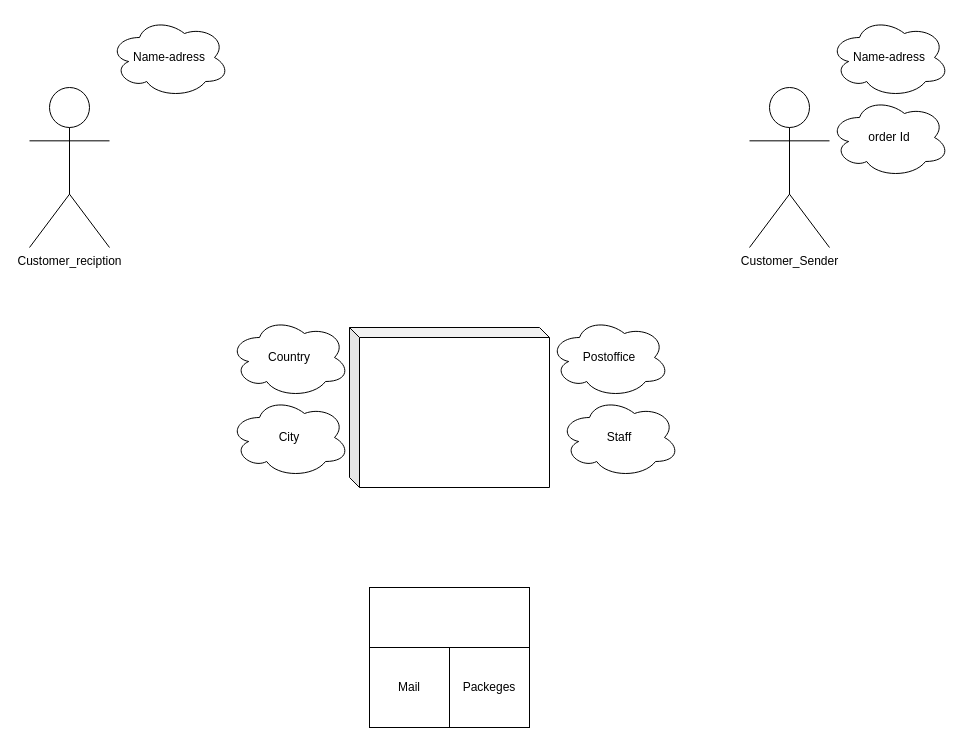
This 967x745 diagram has some shape labels left out. The box of each missing label's shape, as (x1, y1, x2, y2) in pixels:
Mail By Category: (368, 586, 530, 648)
Offices/CollectionPoints: (348, 326, 550, 488)
